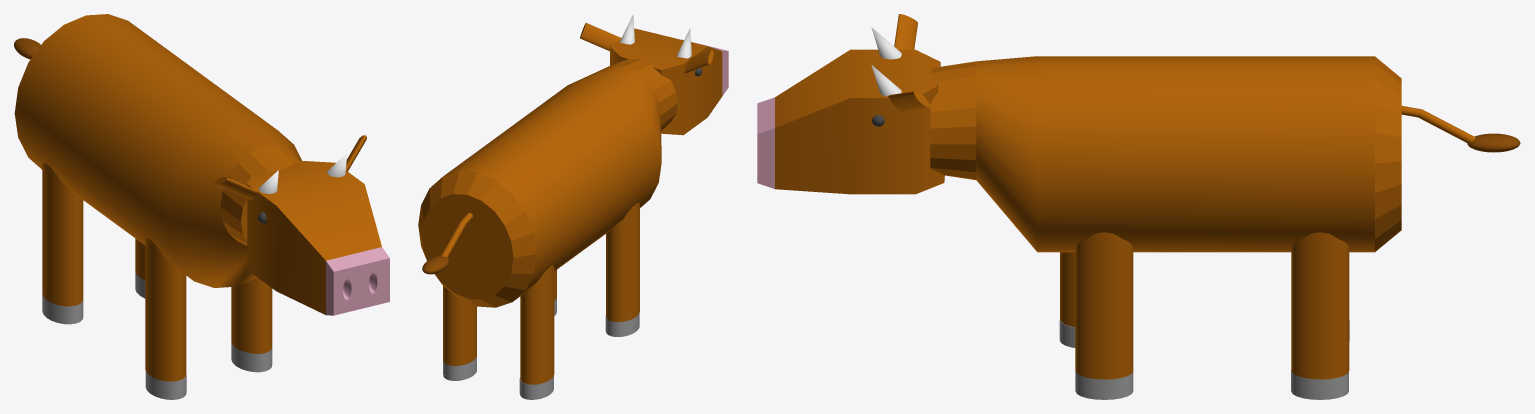
Rendered from Cow.fbx.
3 renders of one model, left to right at view 1: azimuth 30°, elevation 25°; view 2: azimuth 150°, elevation 25°; view 3: azimuth 270°, elevation 25°, orthographic. The views are drawn at different scales.
Parts seen in each view (by area): view 1: pCylinder29; view 2: pCylinder29; view 3: pCylinder29.
Boxes of the visible parts, x1,y1,x2,y2 form: pCylinder29: (14, 14, 389, 399); pCylinder29: (418, 14, 728, 399); pCylinder29: (757, 14, 1520, 399).
Size of the model in its own units: 2.41 by 4.34 by 9.32.
